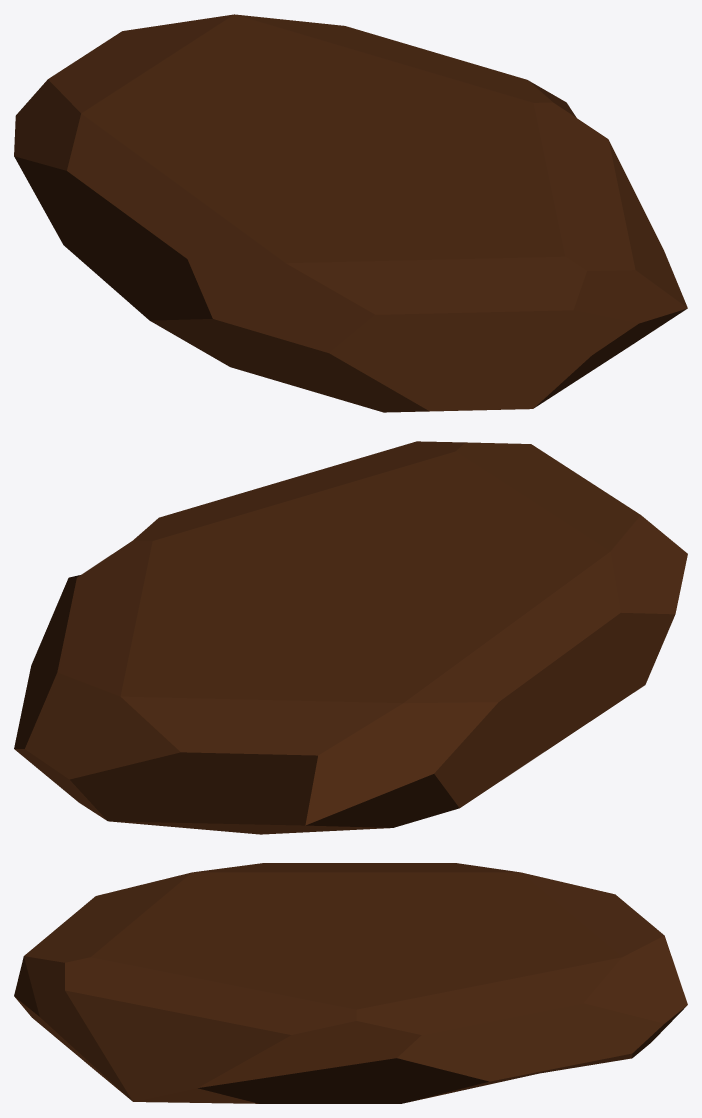
The model's file is rockRoad.fbx.
3 renders of one model, top to bottom at view 1: azimuth 30°, elevation 25°; view 2: azimuth 150°, elevation 25°; view 3: azimuth 270°, elevation 25°, orthographic. The views are drawn at different scales.
Parts seen in each view (by area): view 1: Ico 球體; view 2: Ico 球體; view 3: Ico 球體.
Part boxes in pixels (<box>): Ico 球體: <box>14,14,687,412</box>; Ico 球體: <box>14,441,687,834</box>; Ico 球體: <box>14,863,687,1103</box>.
Bounding box in the file's own units: 72.05 × 18.34 × 106.
